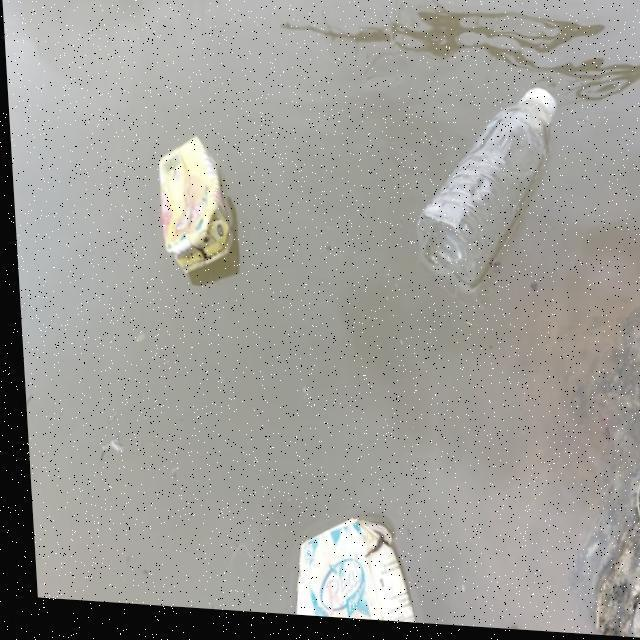Bottle: (414, 82, 562, 288)
Box: (284, 509, 420, 624), (151, 133, 245, 277)
